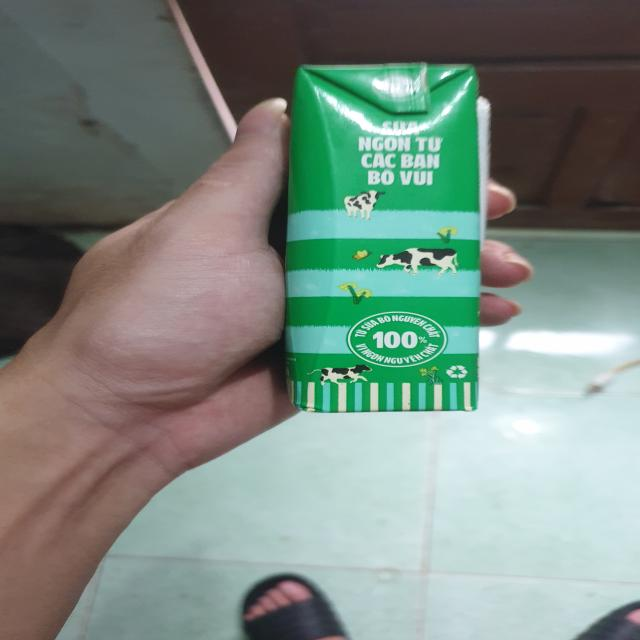Vina: (279, 60, 493, 417)
